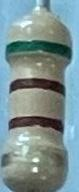Black: (9, 81, 65, 94)
Brown: (8, 116, 64, 131)
Green: (5, 41, 72, 61)
Side-Silver: (2, 151, 69, 168)
